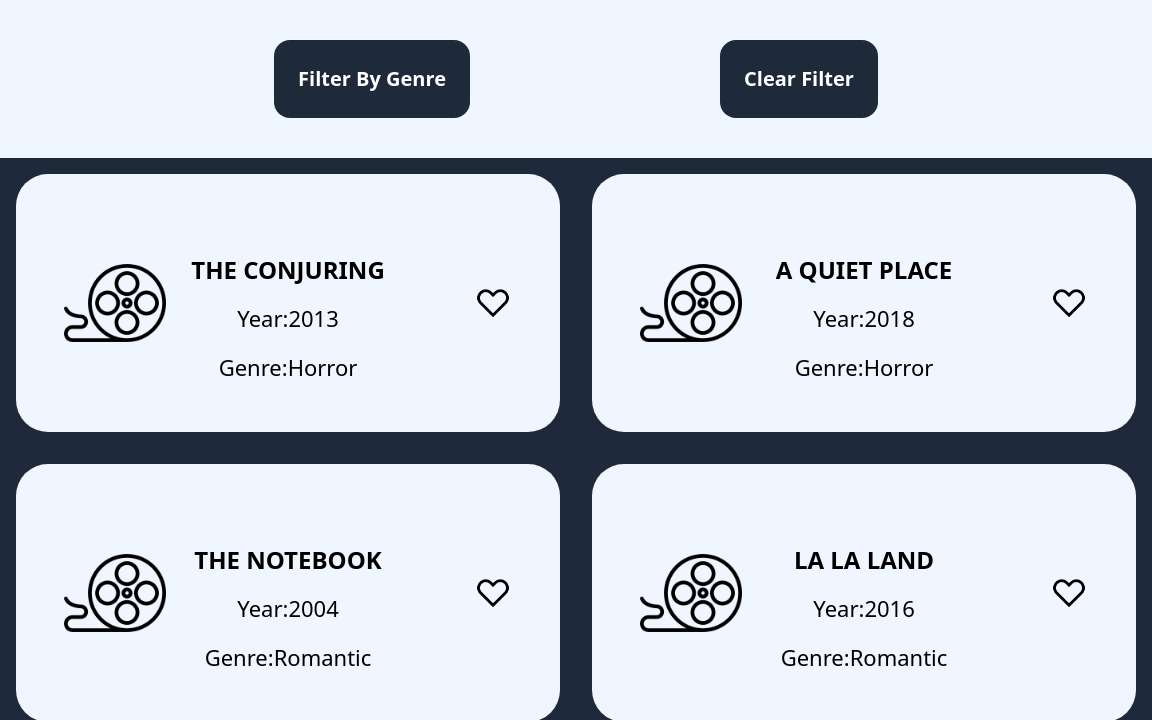
Scenario: Test the filter button and genre selection › Test that selected genre of movies is displayed
What coordinates should you click on to do the following:
click the button "Filter By Genre"
I would click on:
 (372, 79)
Its box is top-left (274, 40), bottom-right (470, 118).
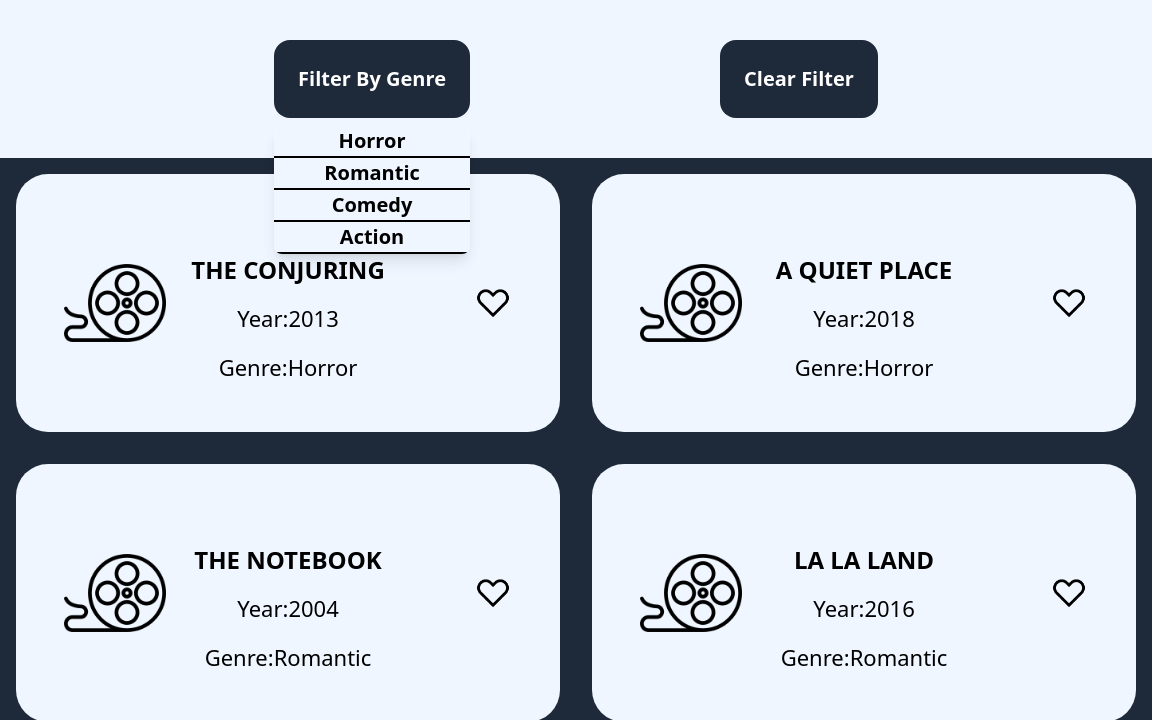
expect the number of elements with test id "genre-options" is 4: met
expect the element with test id "genre-options" reads "Horror": met, box top-left (339, 127), bottom-right (406, 154)
What coordinates should you click on to do the following:
click the element with test id "genre-options" showing "Horror"
I would click on:
 (372, 142)
Its box is top-left (274, 126), bottom-right (470, 158).
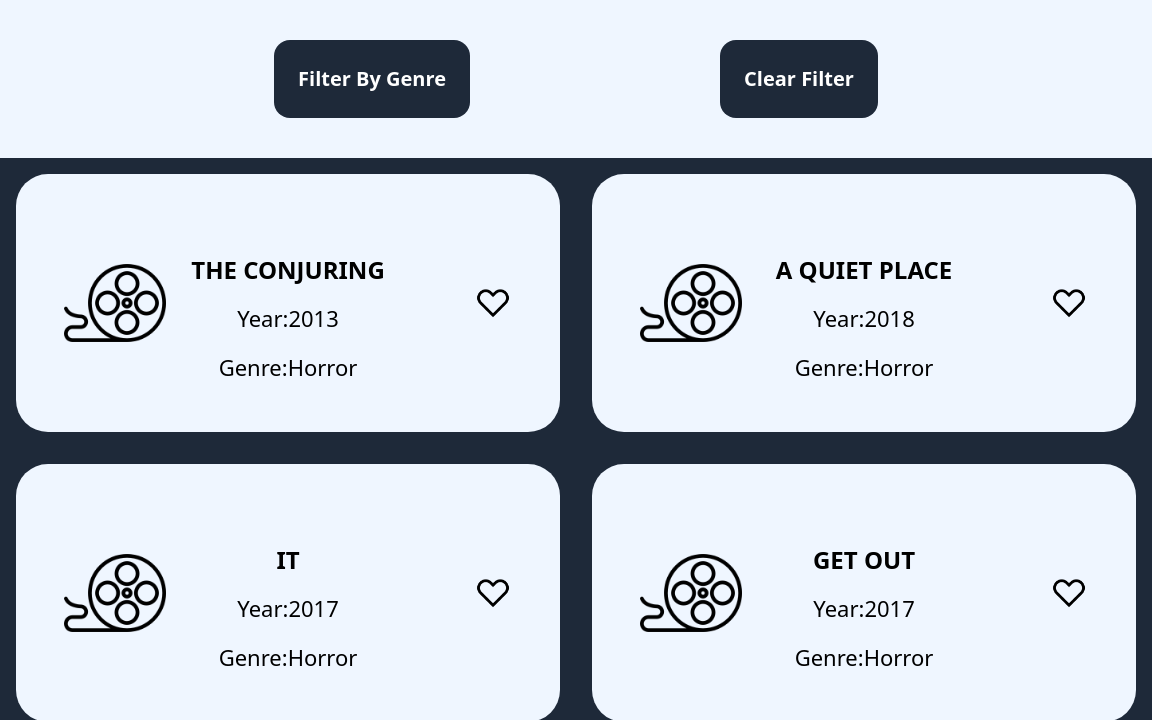
expect the number of elements with test id "movie" is 5: met
expect no elements with test id "genre-options" are shown: met
